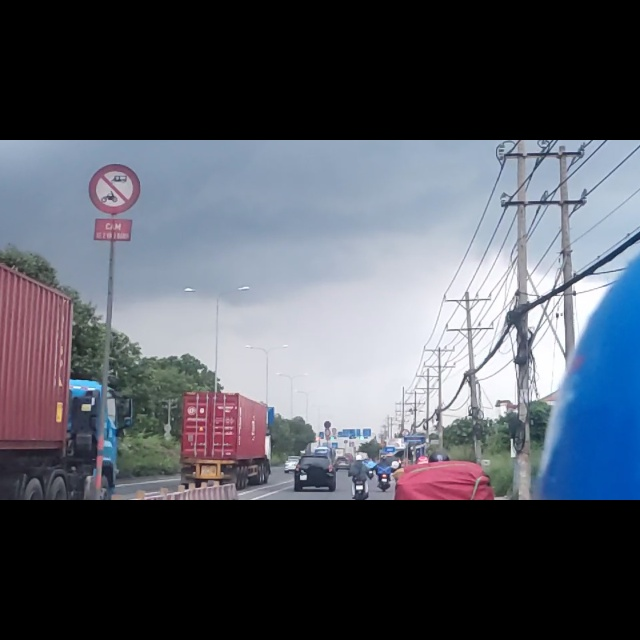bien_cam: (88, 43, 141, 132)
